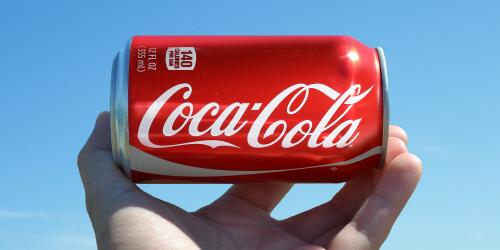coke: (111, 34, 389, 185)
